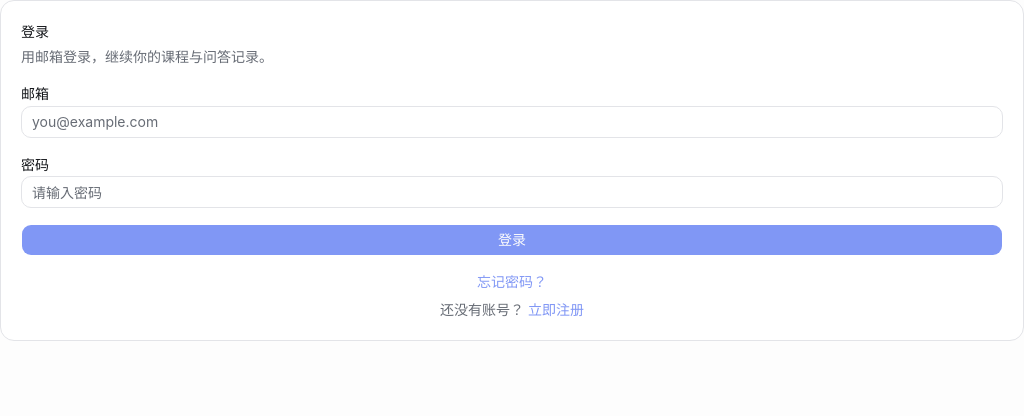
LoginPage · 登录 › 改动输入会清掉上一次的服务端错误横幅（防残留）
Type "demo@example.com" into the field labelled "邮箱" at (512, 122), box [21, 106, 1003, 138]
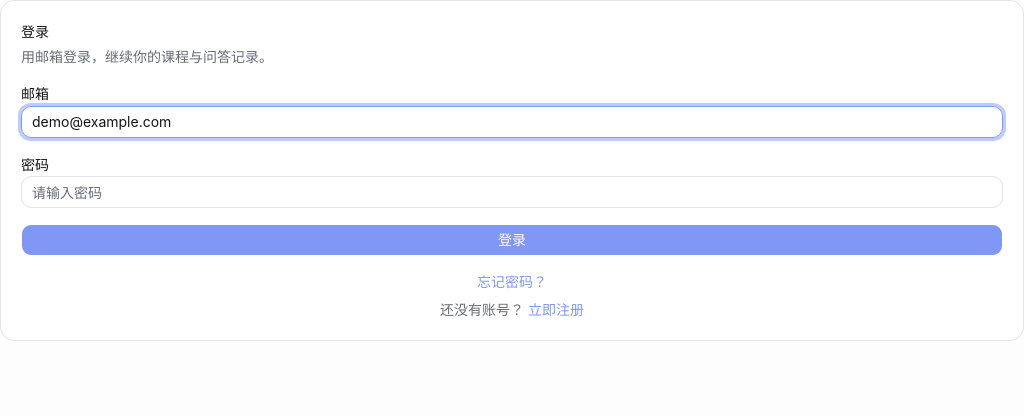
Type "Wrong@1234" into the password field labelled "密码" at (512, 192), box [21, 176, 1003, 208]
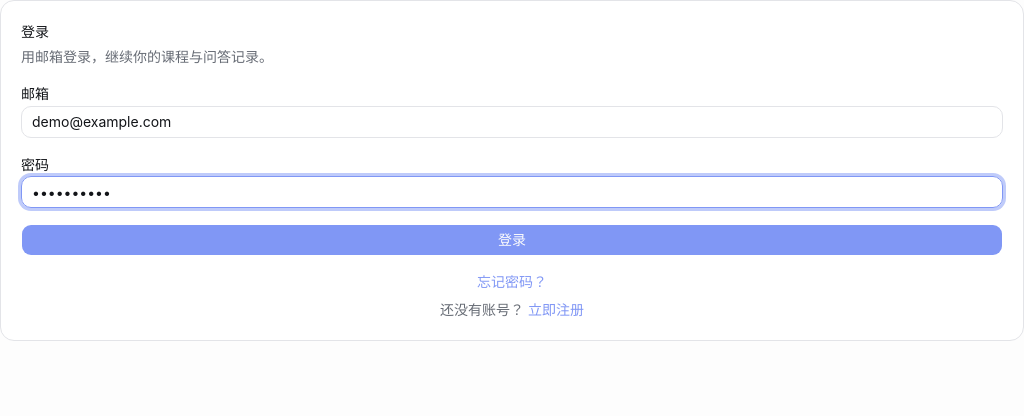
Click the button "登录" at (512, 240), box [21, 224, 1003, 256]
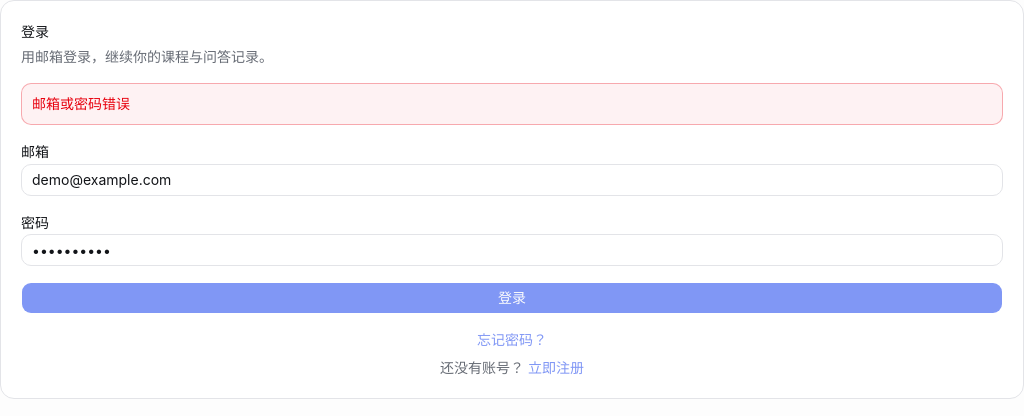
Now the message reads "邮箱或密码错误", box [32, 95, 130, 112]
# 再改动邮箱：旧横幅应立刻消失，不残留在新一次校验旁边
Type "x" into the field labelled "邮箱" at (512, 180), box [21, 164, 1003, 196]
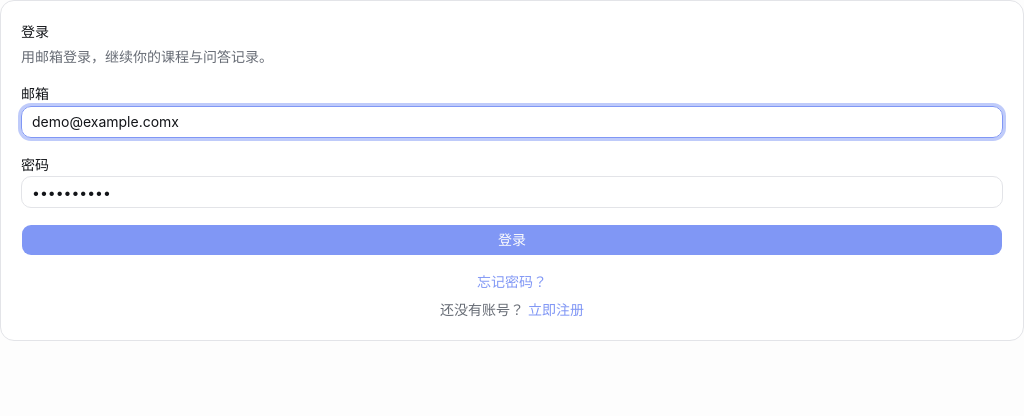
Now the text "邮箱或密码错误" is gone
